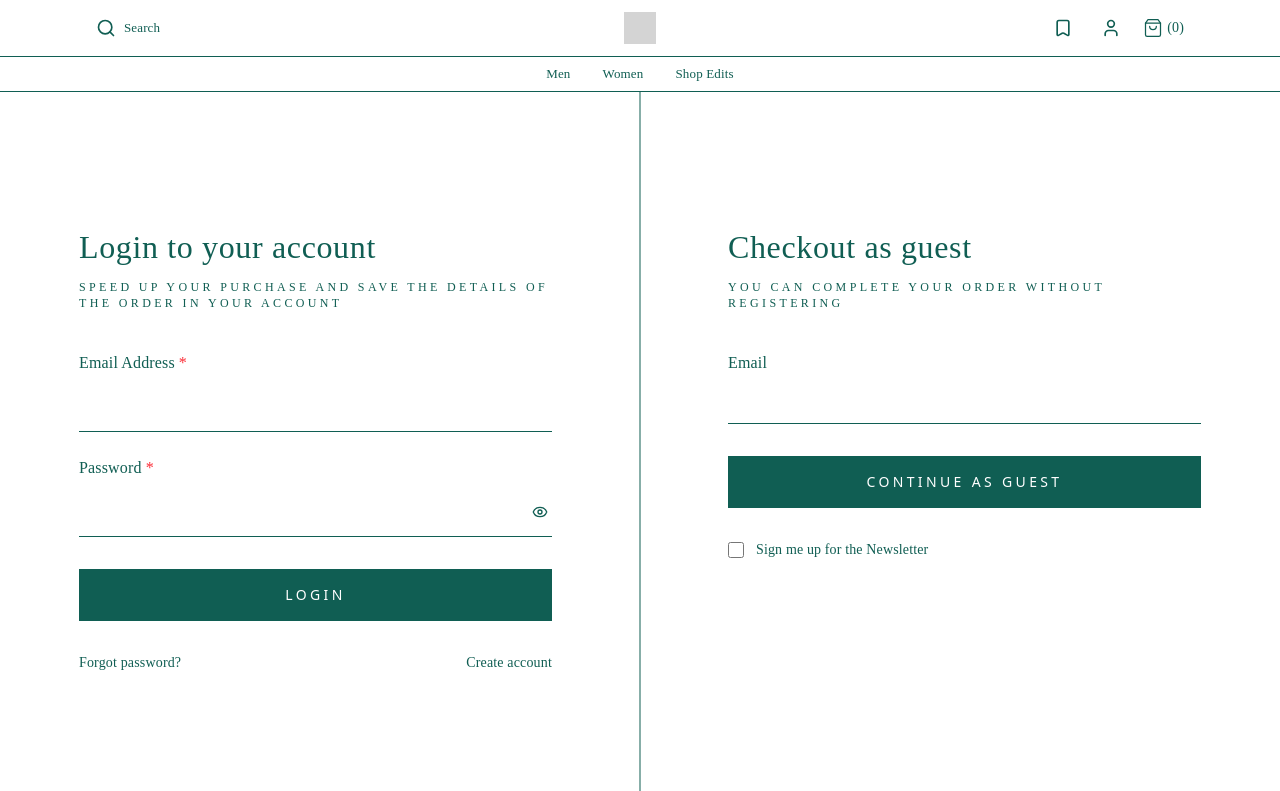
Test case: Login Validation › renders login button enabled by default and shows validation errors when submitted empty
The image size is (1280, 791).
What coordinates should you click on to do the following:
click the button "Login"
I would click on:
 (316, 595)
Its box is [79,569,552,621].
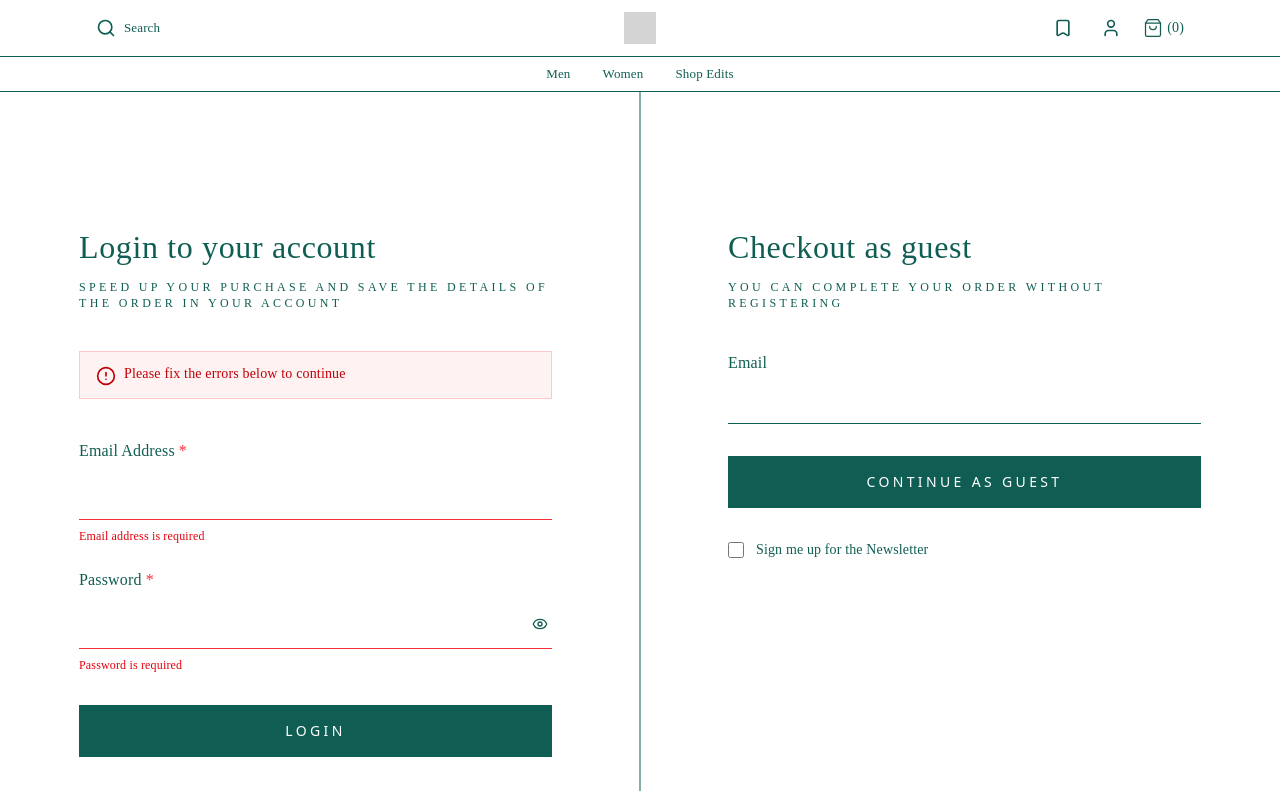
Expected: the text "Email address is required" is shown, [79,529,205,543]
Expected: the text "Password is required" is shown, [79,658,182,672]
Expected: the text "Please fix the errors below to continue" is shown, [124,364,346,384]
